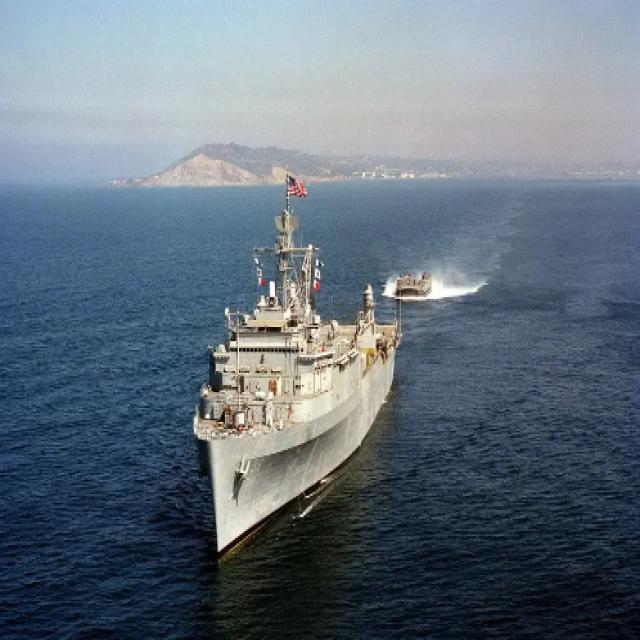navalvessels: (169, 165, 393, 557)
